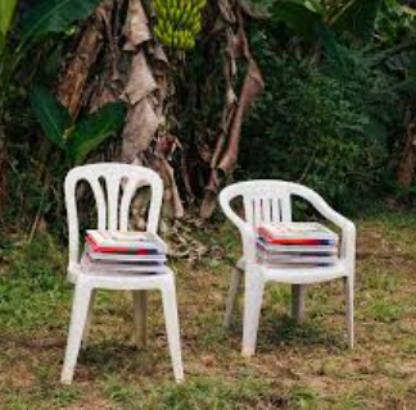chair: (59, 156, 191, 398), (209, 171, 369, 368)
